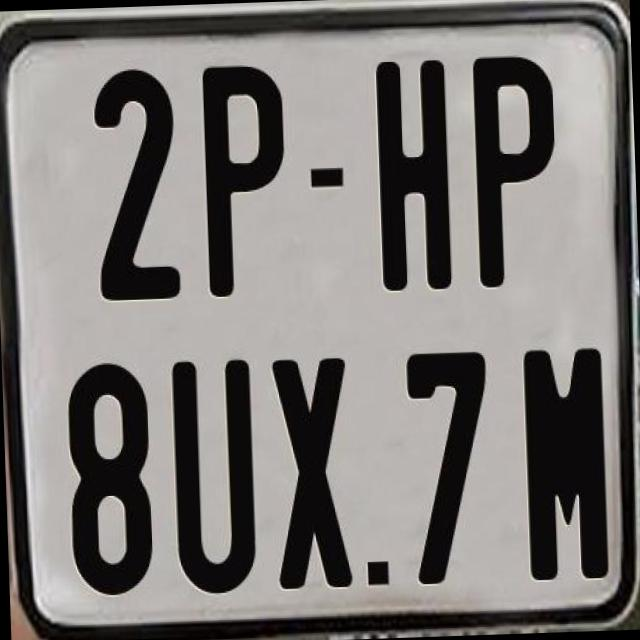2: (88, 62, 180, 300)
7: (402, 349, 489, 592)
8: (64, 360, 152, 600)
H: (375, 54, 458, 296)
M: (522, 345, 617, 580)
P: (198, 62, 292, 305), (471, 49, 563, 287)
U: (169, 358, 263, 602)
X: (267, 354, 355, 594)
